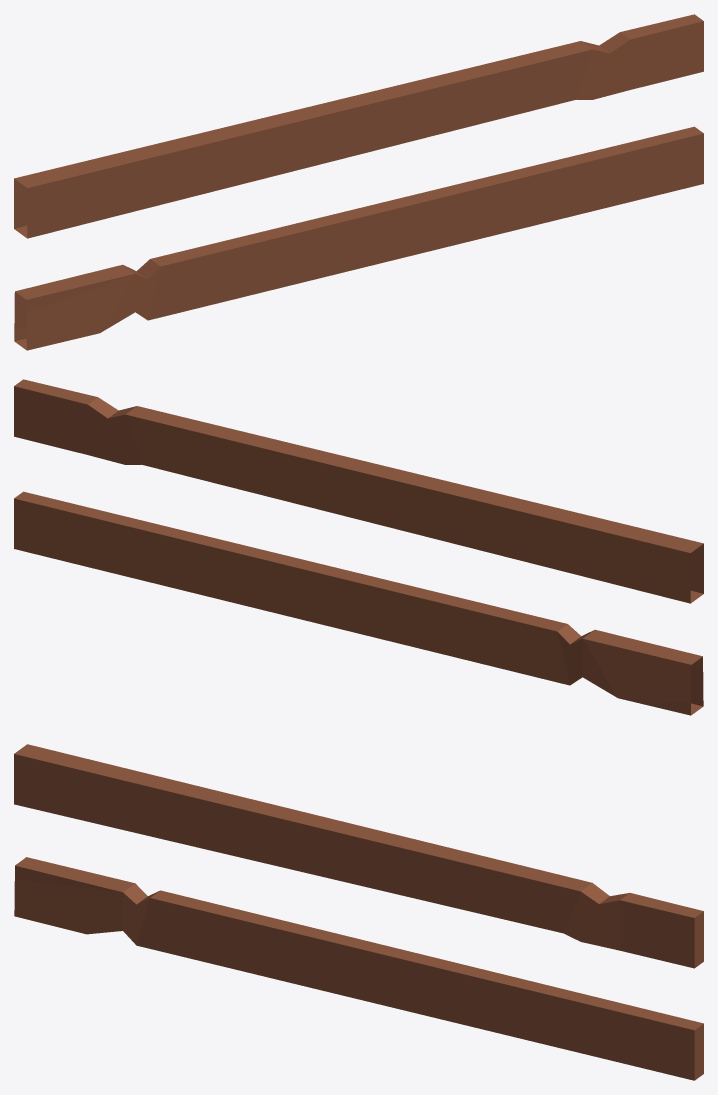
The model's file is fence.1.open.glb.
The picture shows the model from 3 angles, top to bottom: view 1: azimuth 30°, elevation 25°; view 2: azimuth 150°, elevation 25°; view 3: azimuth 330°, elevation 25°; orthographic projection.
Visible parts, largest first — view 1: fence.1.open; view 2: fence.1.open; view 3: fence.1.open.
Boxes of the visible parts, x1=… form: fence.1.open: x1=14, y1=14, x2=703, y2=350; fence.1.open: x1=14, y1=379, x2=703, y2=715; fence.1.open: x1=14, y1=744, x2=703, y2=1080.
Bounding box in the file's own units: 2.94 × 0.6741 × 0.1003.
